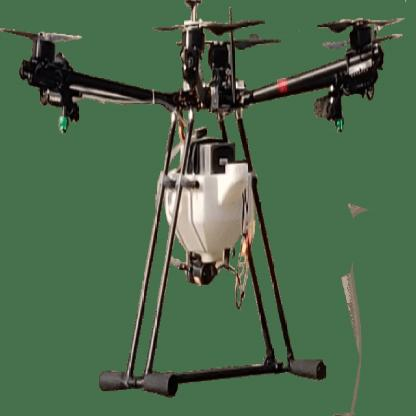drone: (4, 9, 416, 266)
